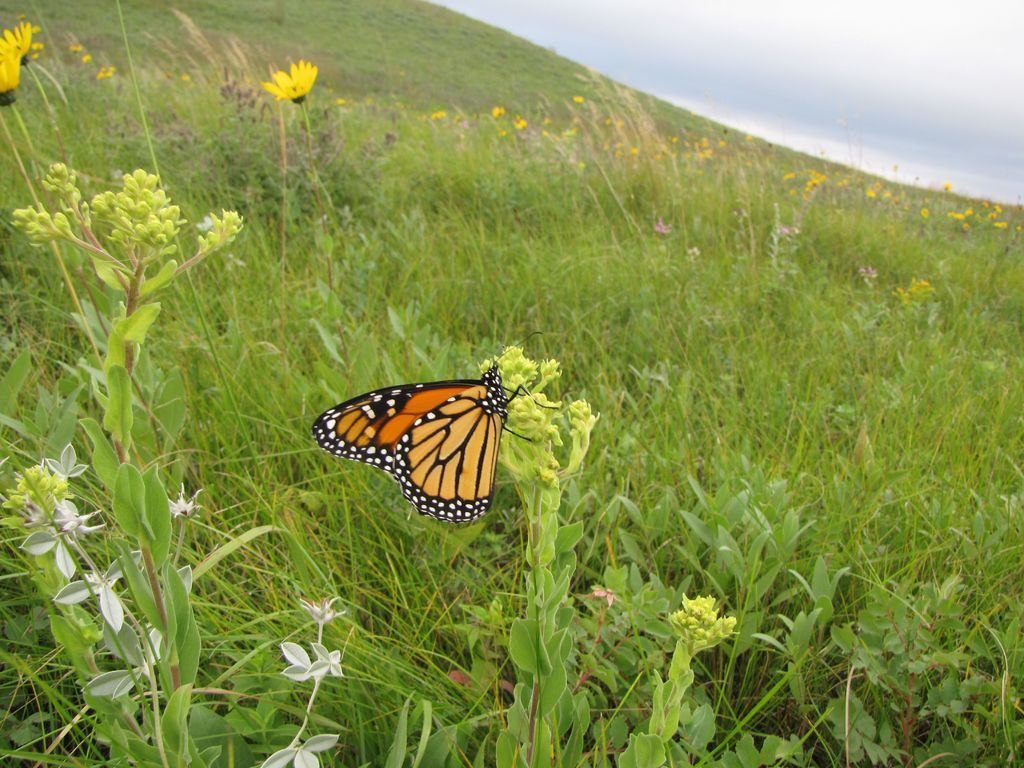Butterfly: (294, 348, 543, 521)
